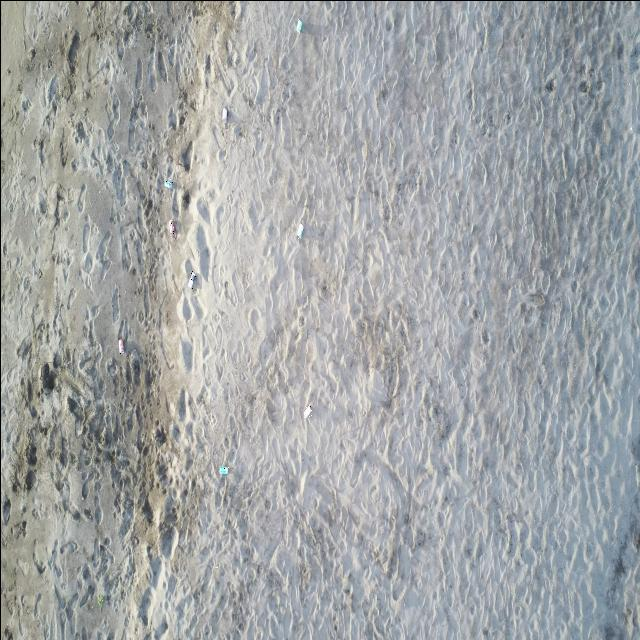Garbage: (168, 219, 176, 238), (188, 270, 196, 287), (296, 224, 303, 239), (303, 404, 311, 417), (296, 19, 303, 32), (221, 107, 227, 121), (163, 179, 172, 188), (119, 337, 123, 353), (220, 466, 227, 475)
